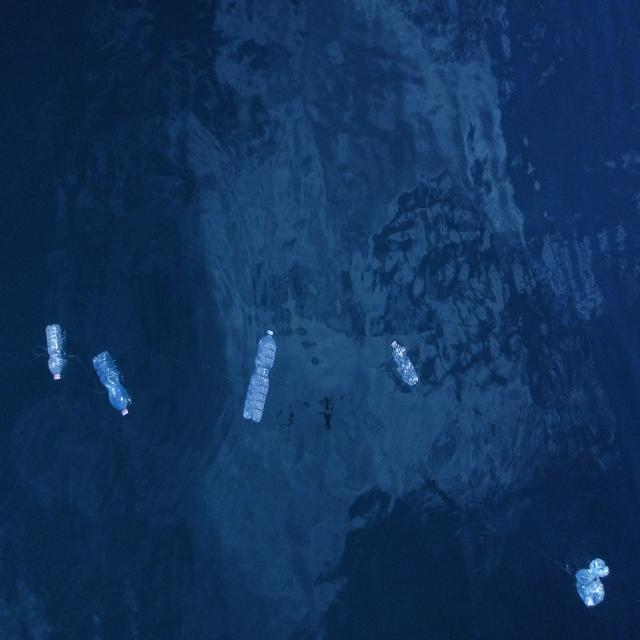bottles: (239, 324, 281, 426), (89, 346, 132, 420), (385, 336, 420, 394), (572, 555, 610, 606), (44, 316, 68, 384)
